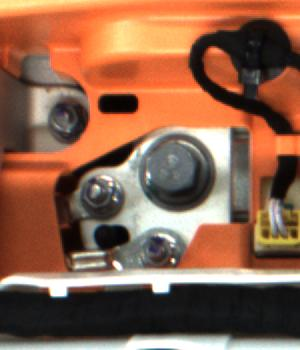nut_b: (139, 131, 224, 206)
screw_s: (77, 174, 123, 216), (41, 99, 79, 142), (140, 227, 177, 266)
